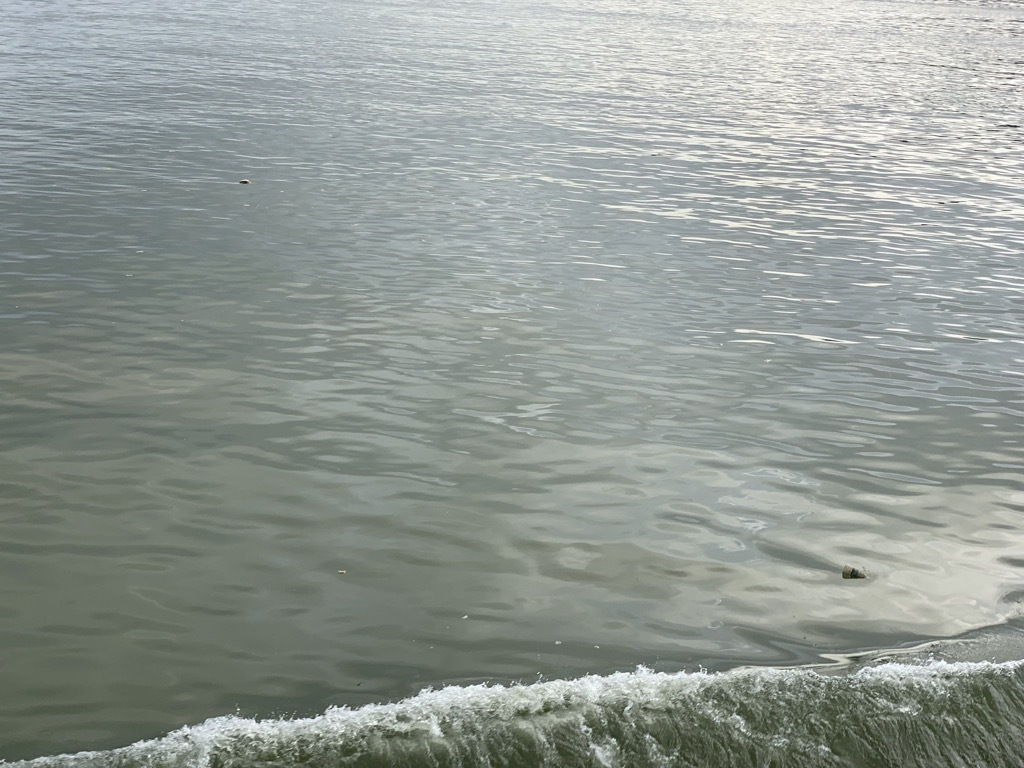plastic: (823, 544, 884, 598), (226, 164, 262, 201), (332, 565, 351, 577)
